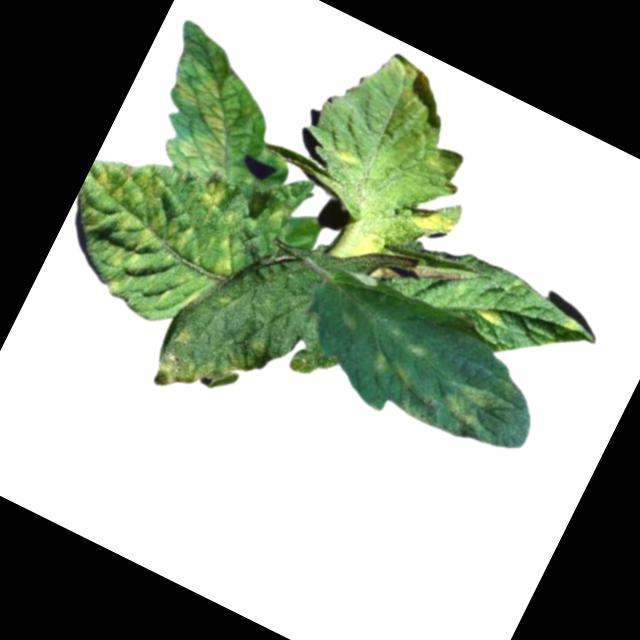Leaf_Mold: (42, 147, 256, 344), (124, 17, 286, 190), (146, 309, 273, 426), (396, 358, 516, 458), (370, 49, 434, 104), (401, 191, 462, 243), (363, 345, 415, 389), (193, 172, 233, 215), (471, 297, 508, 329), (333, 142, 365, 169)
